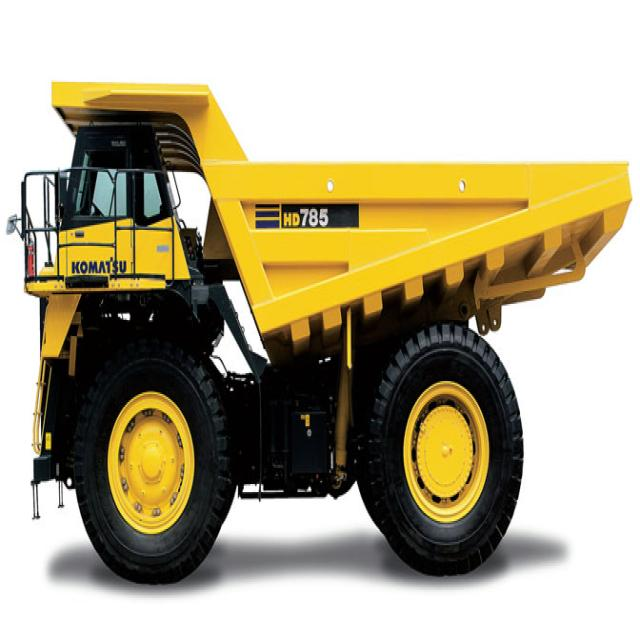dump_truck: (15, 82, 635, 566)
